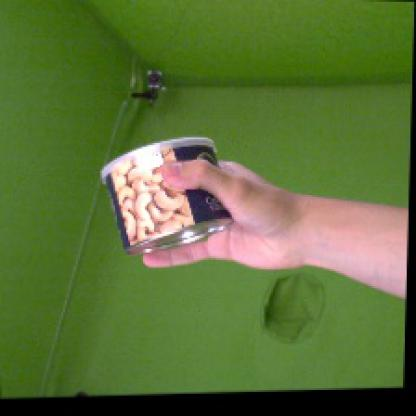Hand: (123, 156, 307, 269)
